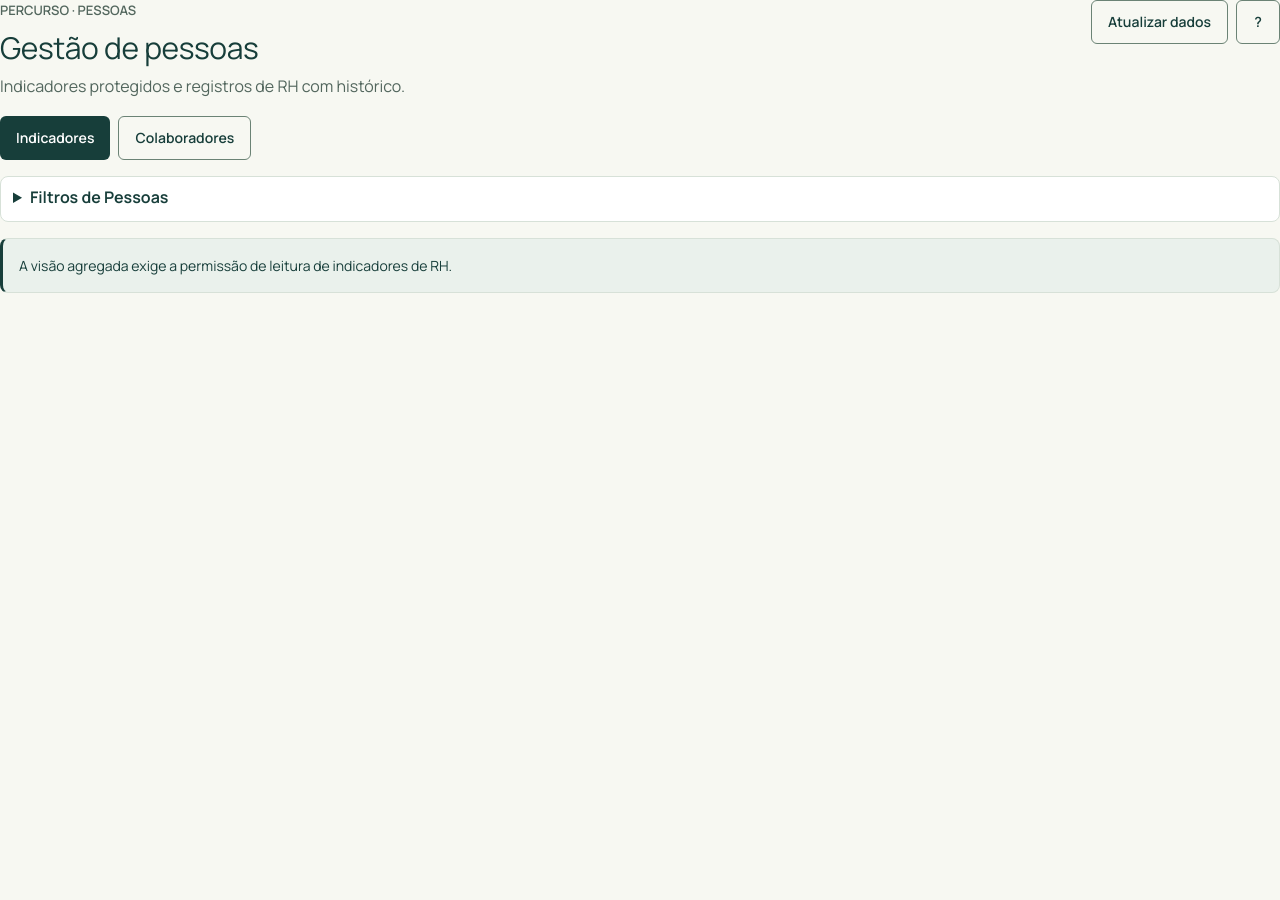
it: rejeita um perfil retornado para outro colaborador no mesmo tenant
Click the button "Colaboradores" at [185, 138], box [118,116,251,160]
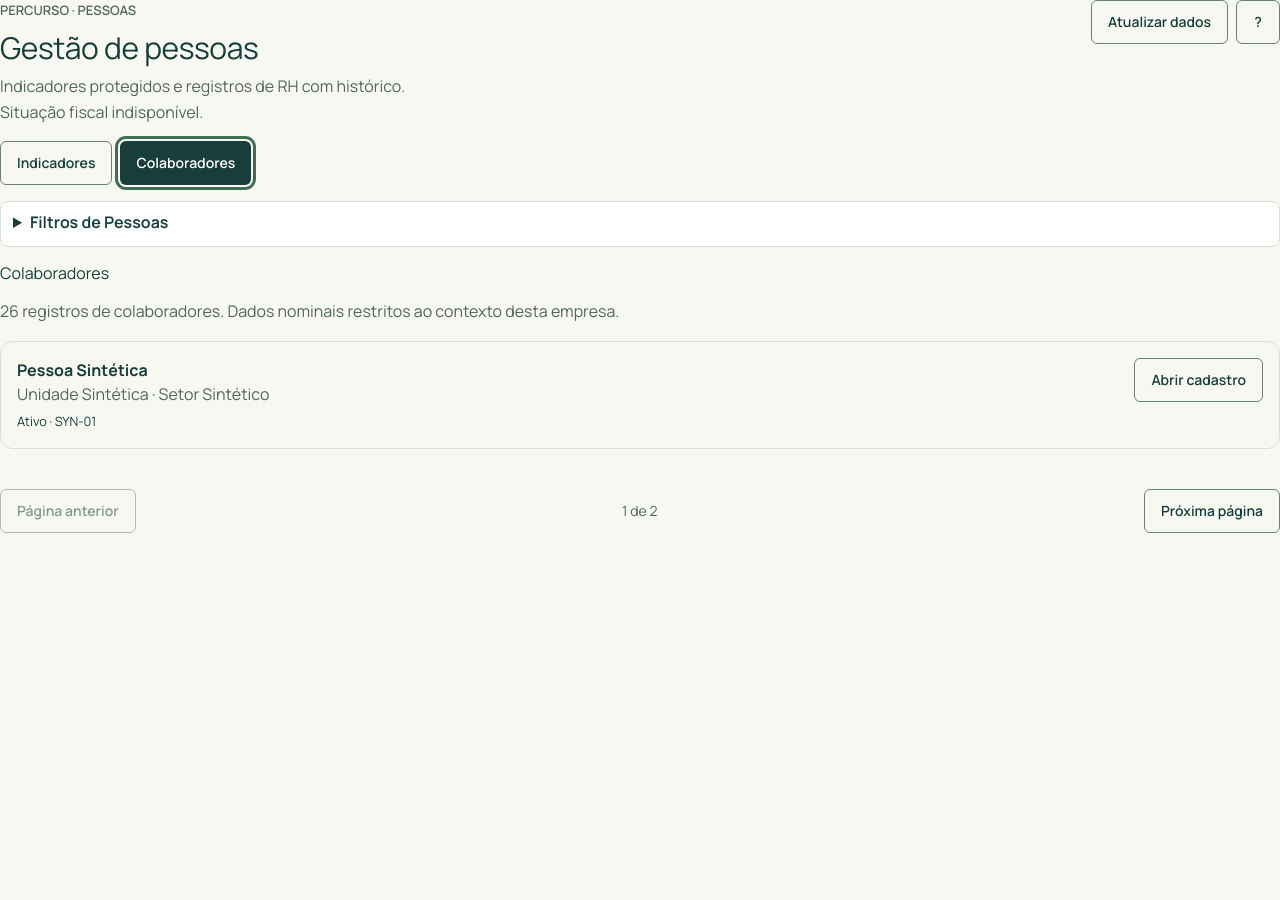
Click the button with aria-label "Abrir Pessoa Sintética" at [1199, 380], box [1134,358,1263,402]
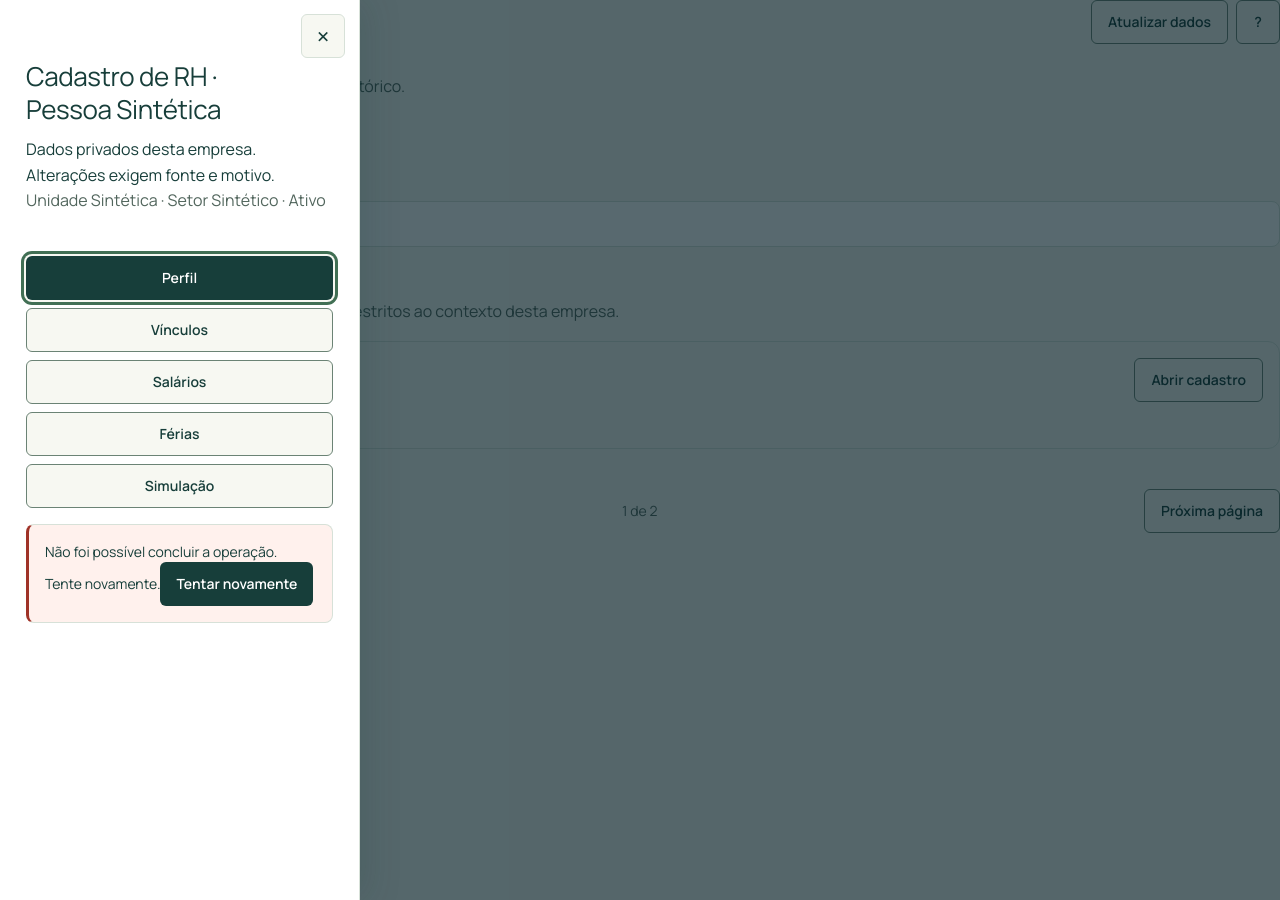
Expected: the message "Não foi possível concluir a operação. Tente novamente. Tentar novamente" is shown, [26,524,333,623]
